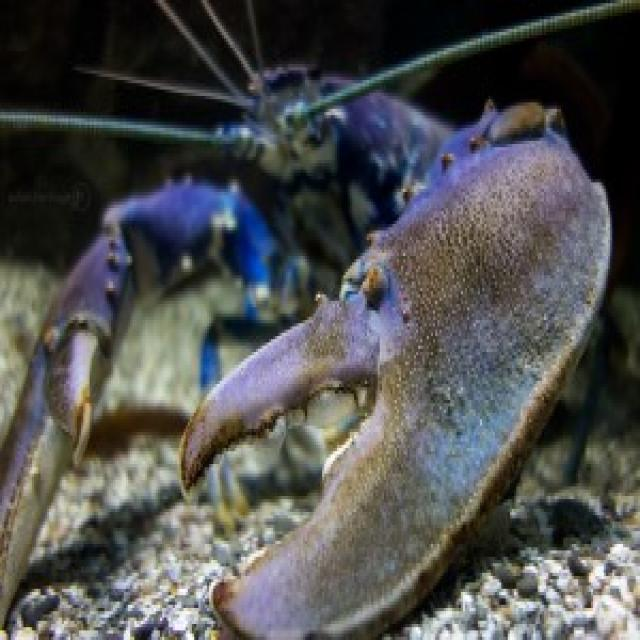lobsters: (1, 0, 626, 630)
